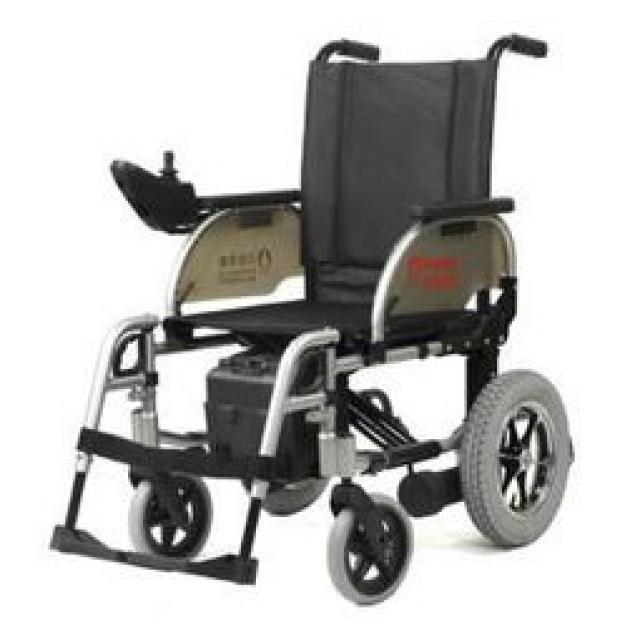wheelchair: (48, 28, 570, 608)
